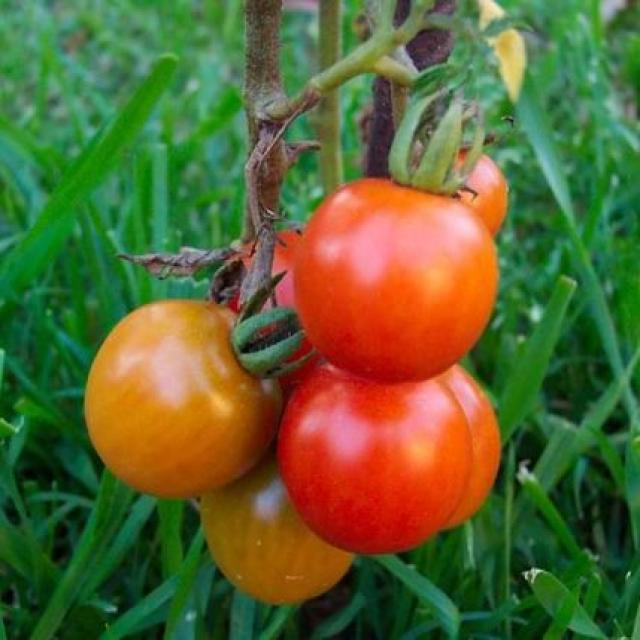level 4: (82, 300, 275, 495), (205, 455, 361, 613)
level 5: (215, 227, 337, 373), (392, 142, 509, 244)
level 6: (297, 180, 497, 383), (282, 356, 472, 551), (336, 358, 503, 538)
